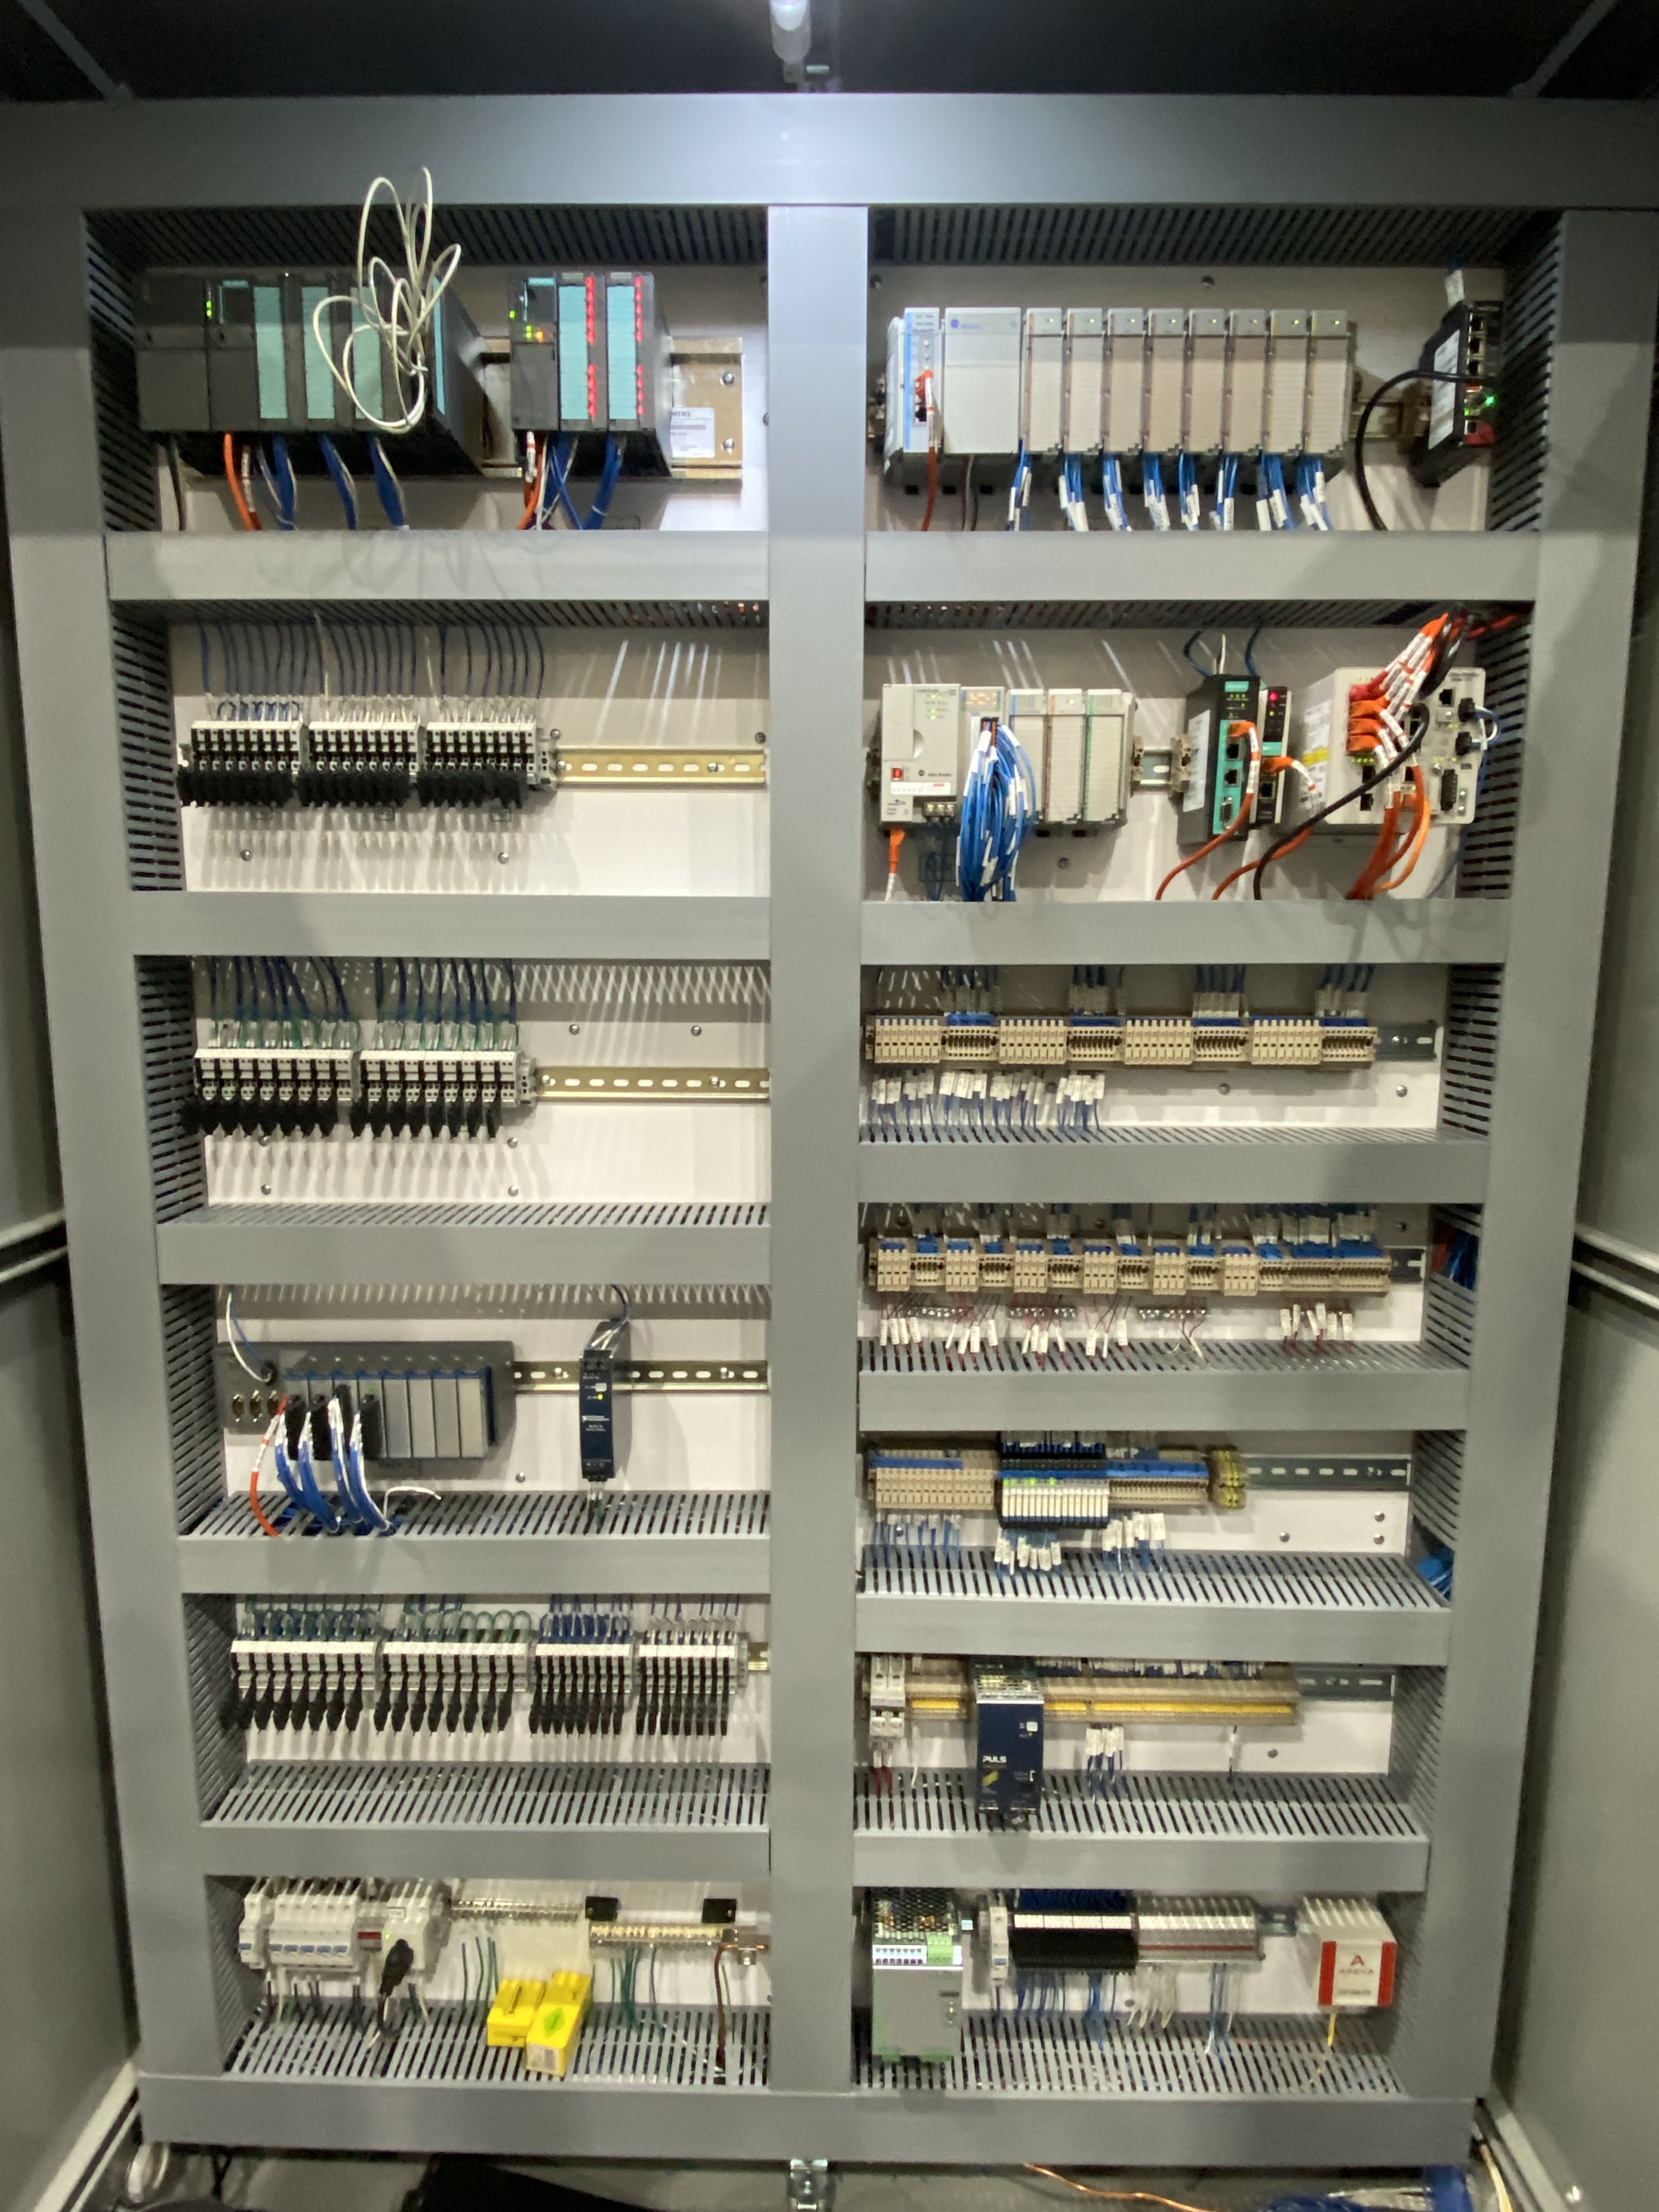AllenBradley: (878, 683, 964, 822)
Siemens: (202, 277, 261, 427)
